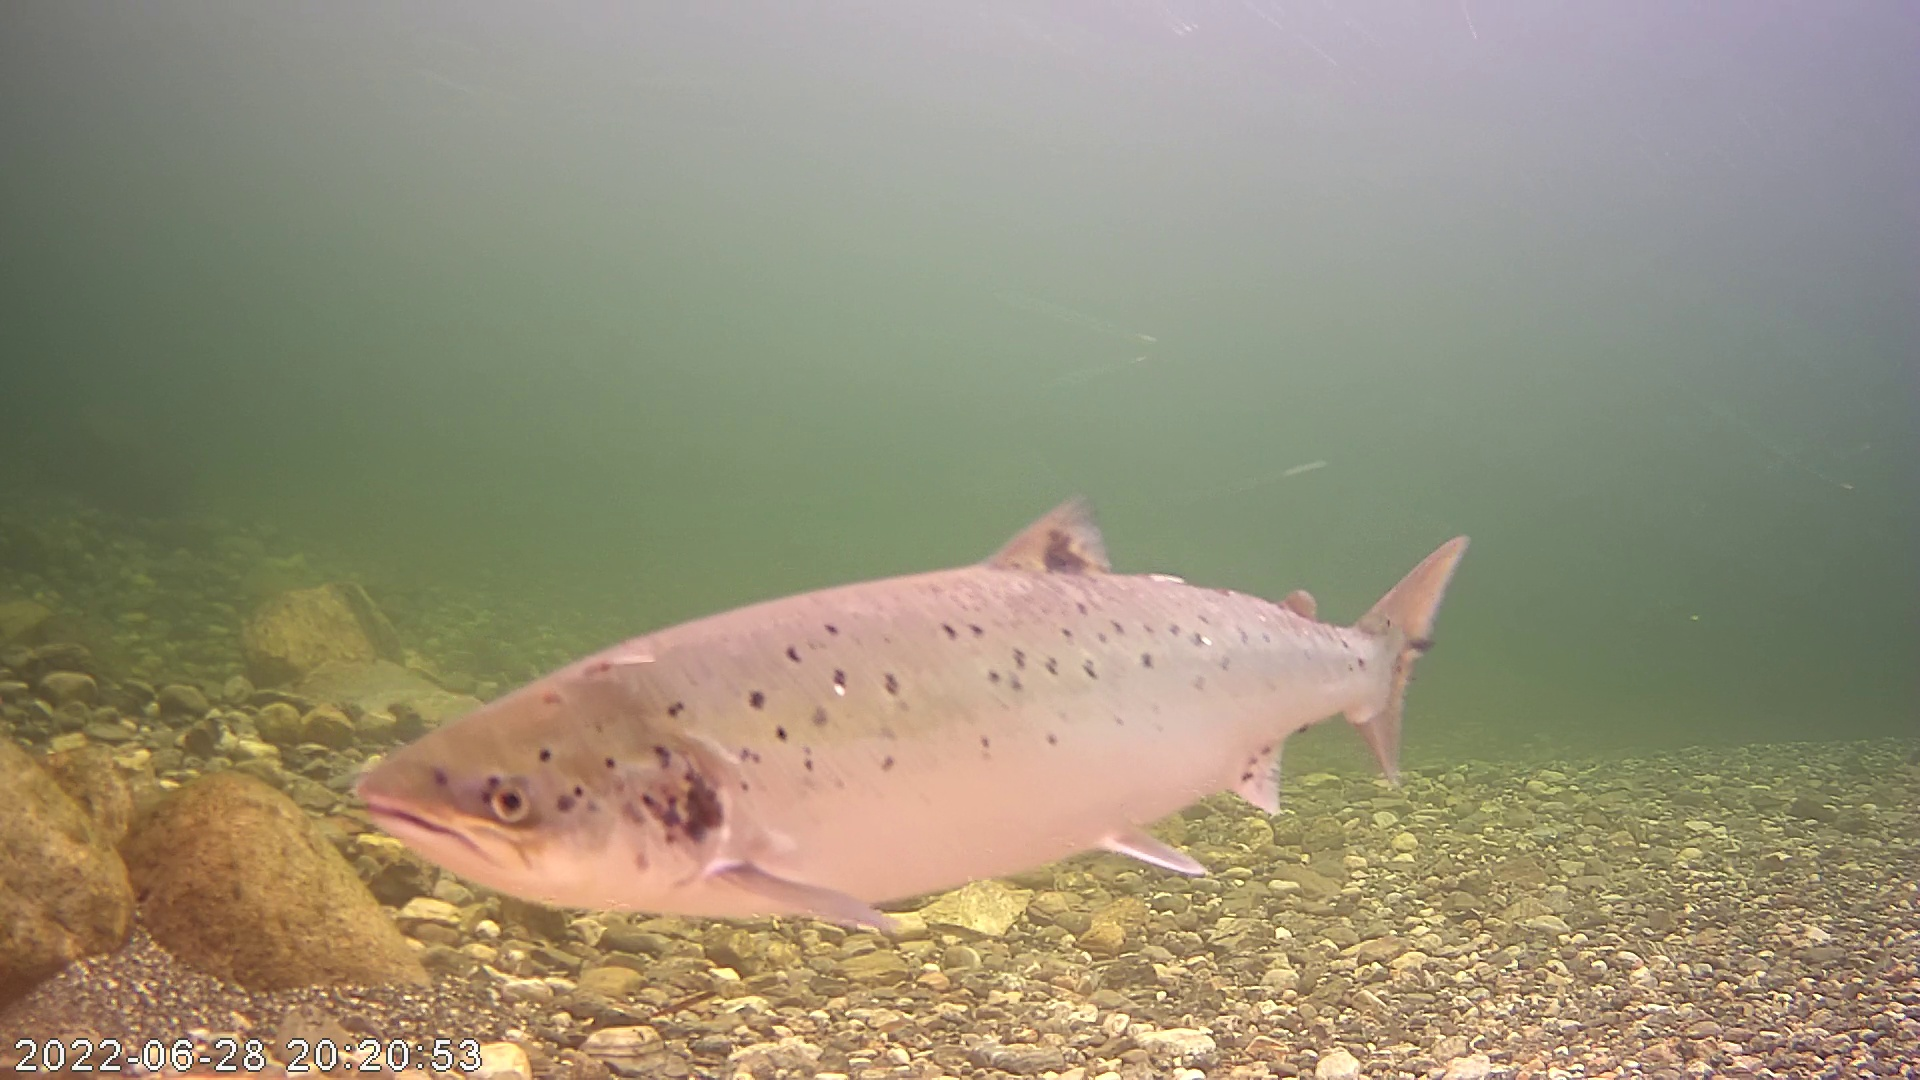salmon: (371, 435, 1465, 939)
